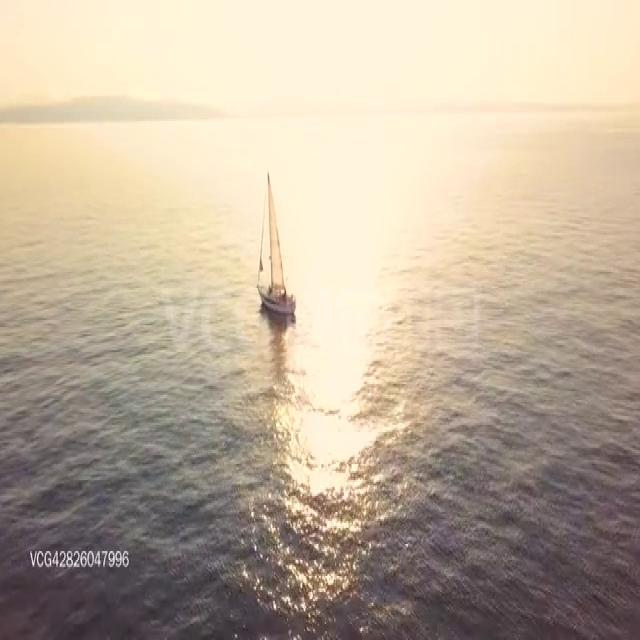sailboat: (255, 166, 298, 318)
